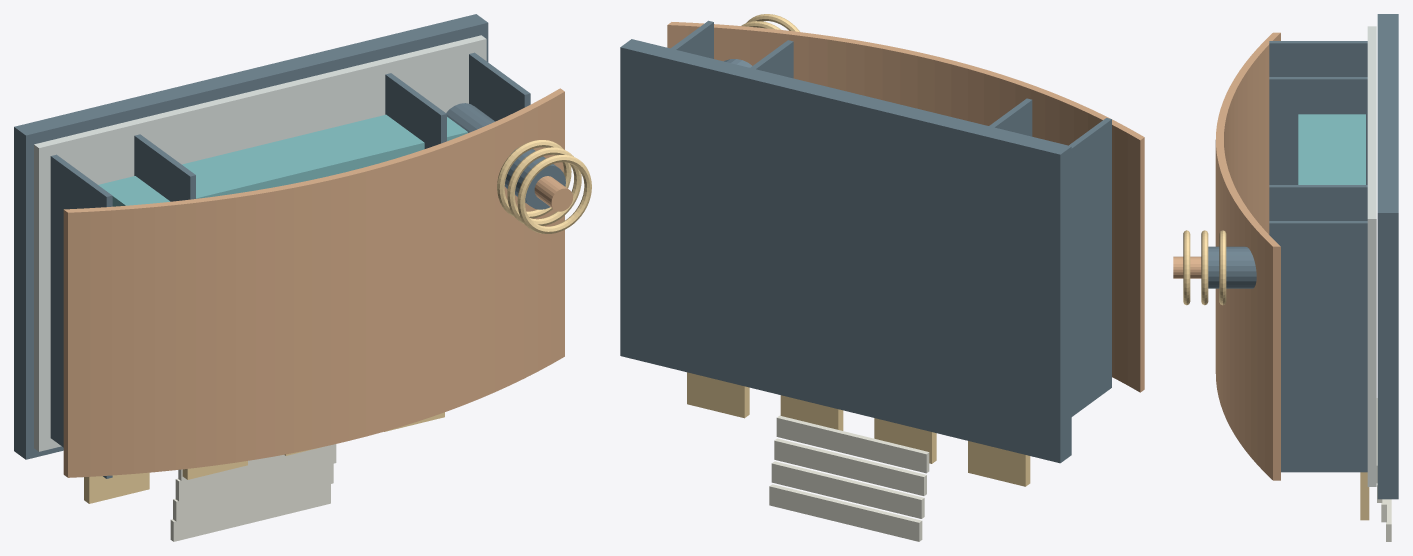
Rendered from transit-hub.glb.
3 renders of one model, left to right at view 1: azimuth 30°, elevation 25°; view 2: azimuth 150°, elevation 25°; view 3: azimuth 270°, elevation 25°, orthographic. The views are drawn at different scales.
Parts seen in each view (by area): view 1: copper-arched-canopy, concourse-terrace, concourse-foundation, glazed-terminal, canopy-support-0, public-step-3, public-step-2, public-step-1, canopy-support-2, canopy-support-3, canopy-support-1, beacon-shaft (+5 smaller); view 2: concourse-foundation, copper-arched-canopy, canopy-support-0, public-step-0, public-step-2, public-step-3, public-step-1, loading-bay-3, loading-bay-0, loading-bay-1, loading-bay-2, canopy-support-1 (+2 smaller); view 3: canopy-support-3, copper-arched-canopy, concourse-foundation, canopy-support-1, glazed-terminal, concourse-terrace, canopy-support-0, canopy-support-2, beacon-shaft, beacon-ring-1, beacon-ring-0, beacon-ring-2 (+2 smaller).
Boxes of the visible parts, bbox=[...] form: copper-arched-canopy: bbox=[63, 88, 564, 477]; concourse-terrace: bbox=[34, 35, 486, 451]; concourse-foundation: bbox=[14, 14, 488, 459]; glazed-terminal: bbox=[98, 114, 467, 206]; canopy-support-0: bbox=[50, 154, 112, 478]; public-step-3: bbox=[170, 484, 330, 541]; public-step-2: bbox=[173, 463, 333, 521]; public-step-1: bbox=[175, 444, 336, 501]; canopy-support-2: bbox=[385, 73, 446, 148]; canopy-support-3: bbox=[469, 52, 530, 121]; canopy-support-1: bbox=[134, 134, 195, 201]; beacon-shaft: bbox=[446, 103, 565, 209]; concourse-foundation: bbox=[620, 39, 1071, 463]; copper-arched-canopy: bbox=[667, 22, 1144, 392]; canopy-support-0: bbox=[1069, 118, 1111, 416]; public-step-0: bbox=[776, 415, 929, 473]; public-step-2: bbox=[771, 461, 924, 518]; public-step-3: bbox=[769, 484, 922, 541]; public-step-1: bbox=[774, 438, 926, 495]; loading-bay-3: bbox=[687, 372, 749, 418]; loading-bay-0: bbox=[968, 441, 1030, 486]; loading-bay-1: bbox=[874, 418, 936, 463]; loading-bay-2: bbox=[780, 395, 843, 430]; canopy-support-1: bbox=[989, 98, 1032, 136]; canopy-support-3: bbox=[1269, 221, 1367, 472]; copper-arched-canopy: bbox=[1215, 32, 1280, 480]; concourse-foundation: bbox=[1377, 14, 1398, 499]; canopy-support-1: bbox=[1269, 77, 1367, 184]; glazed-terminal: bbox=[1298, 114, 1365, 184]; concourse-terrace: bbox=[1367, 26, 1376, 486]; canopy-support-0: bbox=[1269, 41, 1367, 76]; canopy-support-2: bbox=[1269, 185, 1367, 220]; beacon-shaft: bbox=[1208, 246, 1256, 288]; beacon-ring-1: bbox=[1201, 230, 1208, 305]; beacon-ring-0: bbox=[1219, 230, 1226, 305]; beacon-ring-2: bbox=[1183, 230, 1190, 305].
Size of the model in its own units: 10.1 by 8.69 by 4.5.
